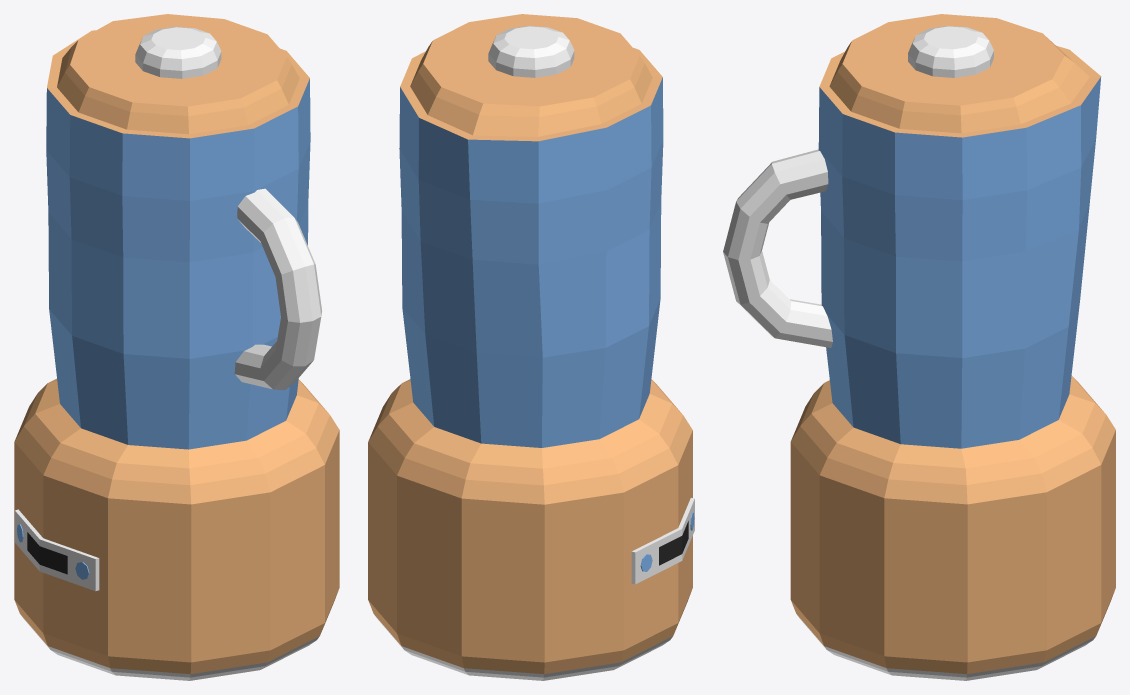
The model's file is Juice Maker_2.fbx.
3 views of the same model, side by side, from view 1: azimuth 30°, elevation 25°; view 2: azimuth 150°, elevation 25°; view 3: azimuth 270°, elevation 25° (orthographic).
Visible parts, largest first — view 1: Juice Maker_2; view 2: Juice Maker_2; view 3: Juice Maker_2.
Part boxes in pixels (left/top/right/bottom): Juice Maker_2: left=14, top=14, right=339, bottom=680; Juice Maker_2: left=368, top=14, right=694, bottom=680; Juice Maker_2: left=723, top=14, right=1115, bottom=680.
Bounding box in the file's own units: 0.2651 × 0.519 × 0.316.
